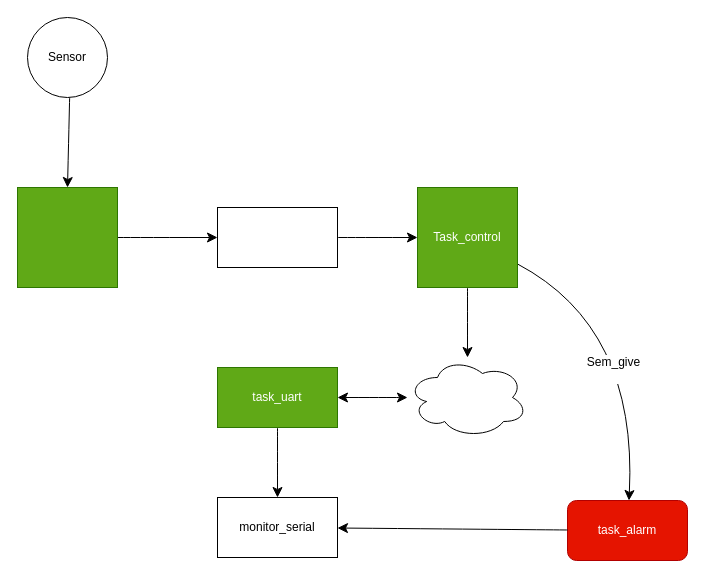
The diagram is 705 pixels wide and 578 high, and some of its shapes have lost their labels. Each missing label, with the centre of its shape:
"Buffer" belongs at (467,397).
"Com (PIPE)" belongs at (277,237).
"Task_Temp (sensor temp)" belongs at (67,237).
